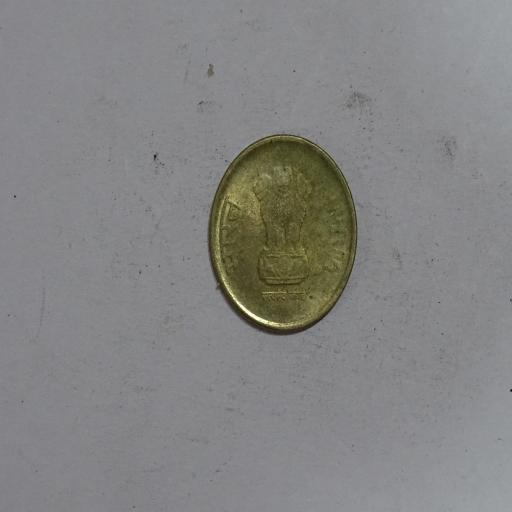rupee5: (204, 131, 359, 336)
